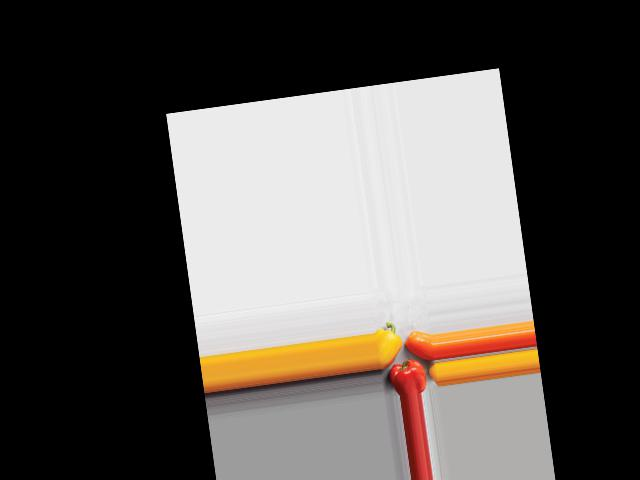bell_pepper: (386, 357, 428, 396)
